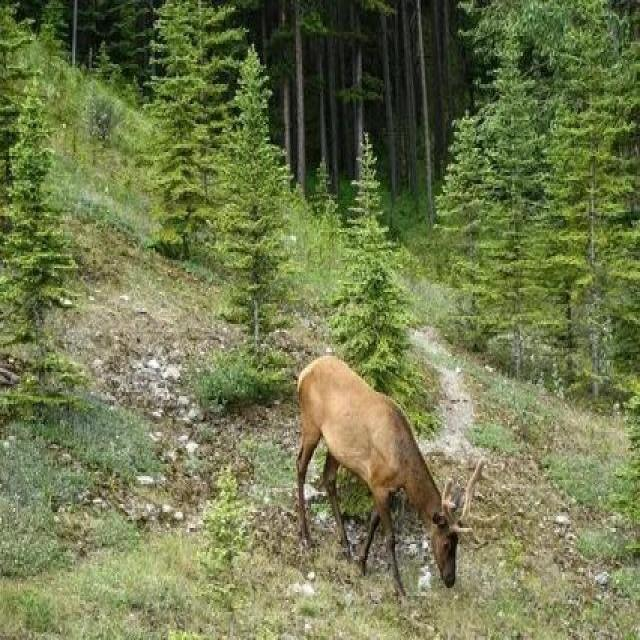deer: (233, 288, 472, 560)
